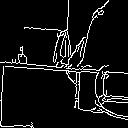cube: (1, 63, 88, 128)
